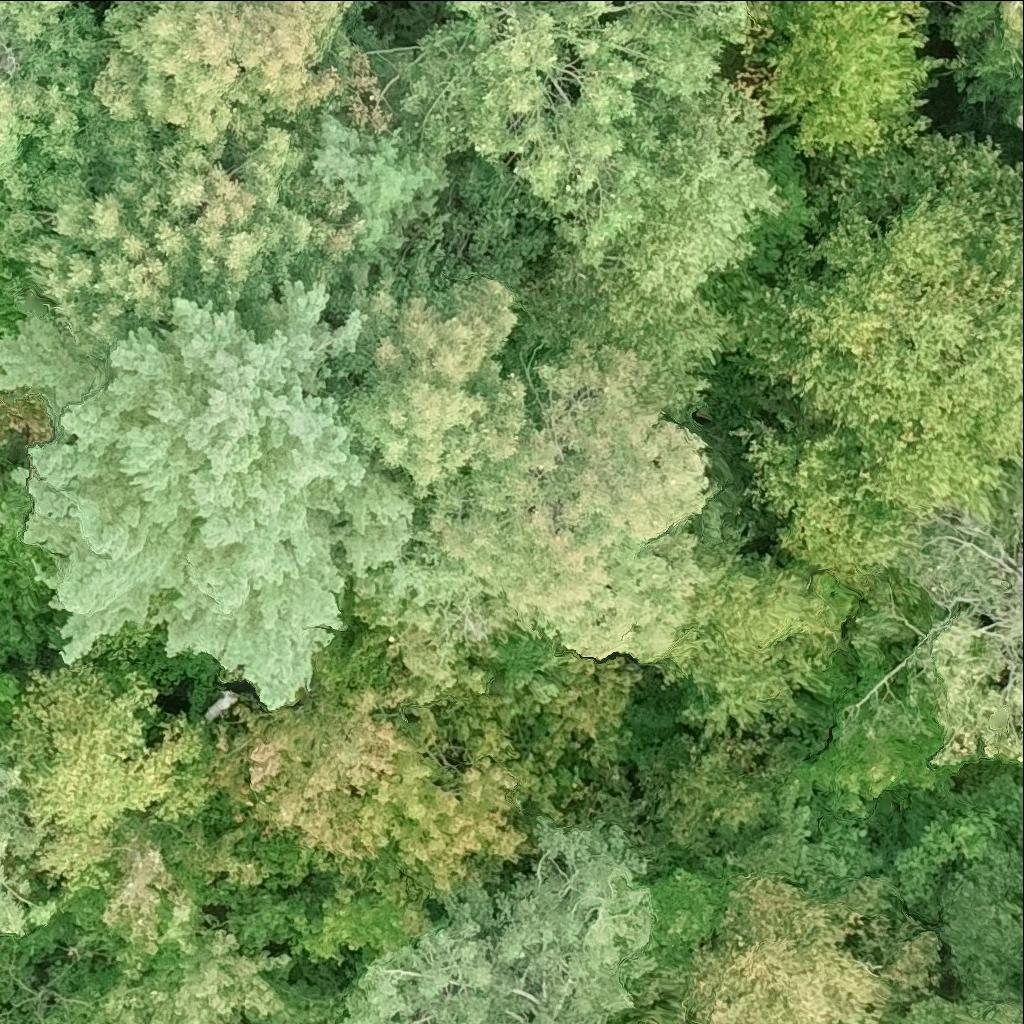crown: (0, 280, 425, 710), (731, 130, 1023, 627), (368, 340, 732, 683), (351, 0, 751, 285), (0, 118, 364, 354), (321, 211, 557, 512), (340, 817, 657, 1023), (223, 682, 537, 886), (93, 0, 405, 170), (857, 467, 1023, 771), (603, 876, 939, 1023), (3, 661, 215, 886), (659, 540, 852, 742), (619, 83, 785, 301), (522, 266, 741, 422), (744, 0, 936, 158), (0, 0, 115, 221), (81, 927, 297, 1023), (296, 853, 442, 962), (650, 731, 774, 856), (779, 727, 941, 817), (0, 767, 57, 936), (950, 0, 1023, 102), (897, 997, 1023, 1023), (31, 994, 98, 1023), (589, 0, 612, 11), (629, 1022, 640, 1023)
